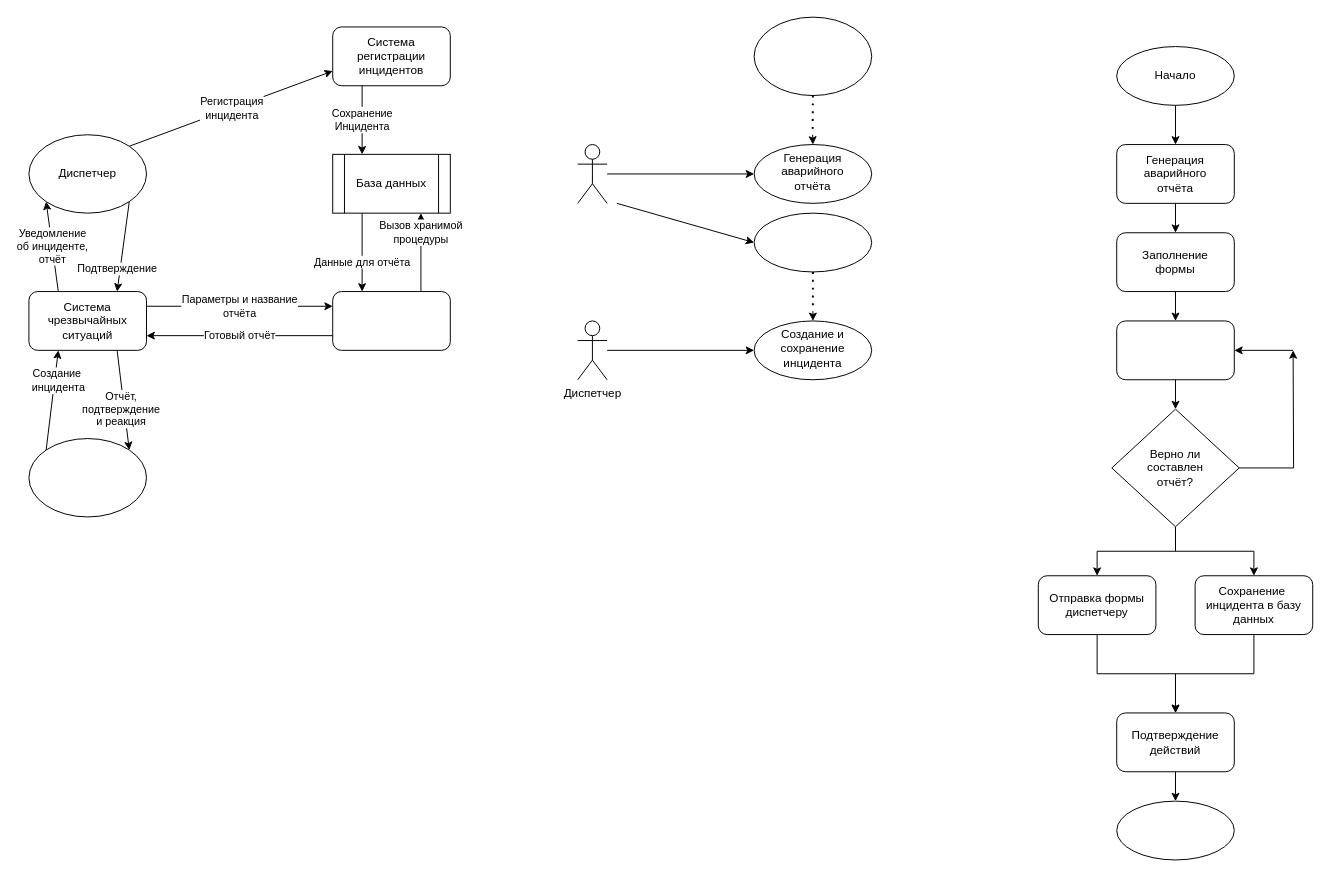
Image size: 1331x877. Some labels were removed from this diagram. Each missing label, with the box of its shape:
Клиент: (28, 438, 147, 517)
Конец: (1116, 800, 1234, 860)
Отправка аварийного отчёта: (753, 16, 872, 96)
реакция на ответ: (753, 212, 872, 272)
Система отчётов: (332, 291, 450, 350)
Составление отчёта: (1116, 320, 1234, 380)
Сотрудник: (577, 144, 607, 203)
